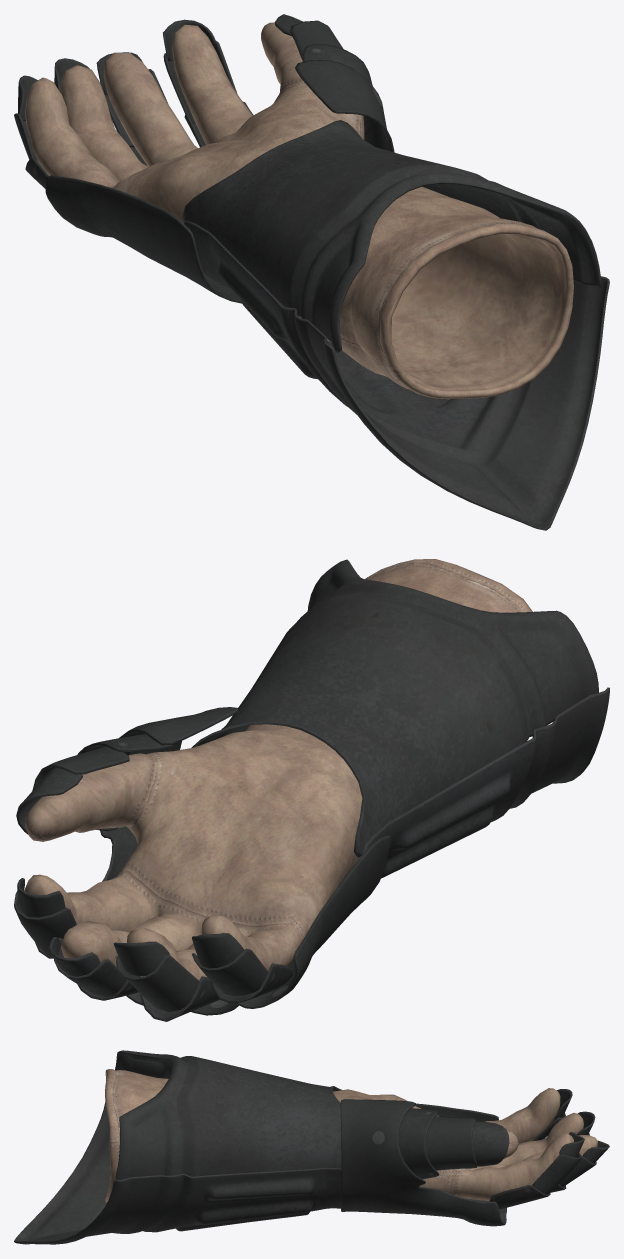
File: 13597_Gauntlet_Armor_v_B_v1_l2.obj
3 renders of one model, top to bottom at view 1: azimuth 30°, elevation 25°; view 2: azimuth 150°, elevation 25°; view 3: azimuth 270°, elevation 25°, orthographic. The views are drawn at different scales.
Visible parts, largest first — view 1: 13597GauntletArmorvB_leatherhand, 13597GauntletArmorvB_handtop, 13597GauntletArmorvB_hand; view 2: 13597GauntletArmorvB_handtop, 13597GauntletArmorvB_leatherhand, 13597GauntletArmorvB_hand; view 3: 13597GauntletArmorvB_handtop, 13597GauntletArmorvB_hand, 13597GauntletArmorvB_leatherhand.
Part boxes in pixels (box(x1,y1,x2,y2)): 13597GauntletArmorvB_leatherhand: box(25, 22, 573, 399); 13597GauntletArmorvB_handtop: box(182, 120, 609, 530); 13597GauntletArmorvB_hand: box(14, 14, 394, 303); 13597GauntletArmorvB_handtop: box(191, 559, 609, 878); 13597GauntletArmorvB_leatherhand: box(24, 559, 532, 980); 13597GauntletArmorvB_hand: box(14, 707, 391, 1021); 13597GauntletArmorvB_handtop: box(14, 1050, 341, 1244); 13597GauntletArmorvB_hand: box(340, 1089, 609, 1226); 13597GauntletArmorvB_leatherhand: box(105, 1069, 597, 1202).
Size of the model in its own units: 7.27 by 6.51 by 19.66.
Materials: 3 (3 with a texture image).
